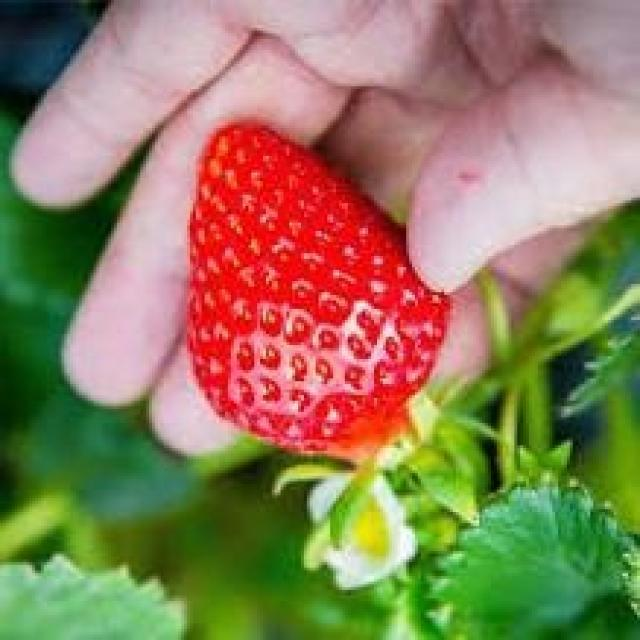Healthy Fruit: (184, 118, 452, 462)
